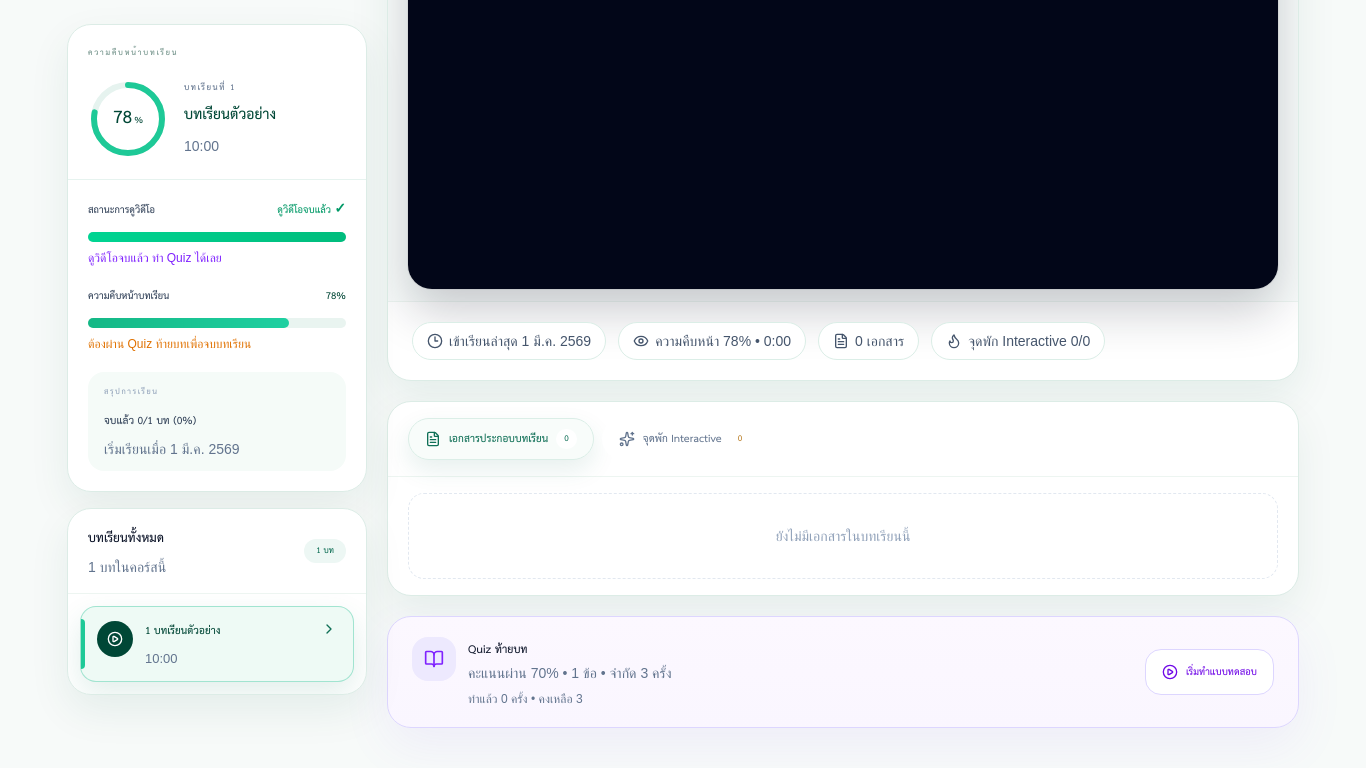
Test: CourseLearningArea quiz opening › reopens an already loaded quiz without forcing another progress sync
(page scrolled)
Check: the heading "Quiz ท้ายบท" is shown, box [468, 639, 528, 660]
Click the button "เริ่มทำแบบทดสอบ": (1210, 672) [1145, 649, 1274, 695]
(page scrolled)
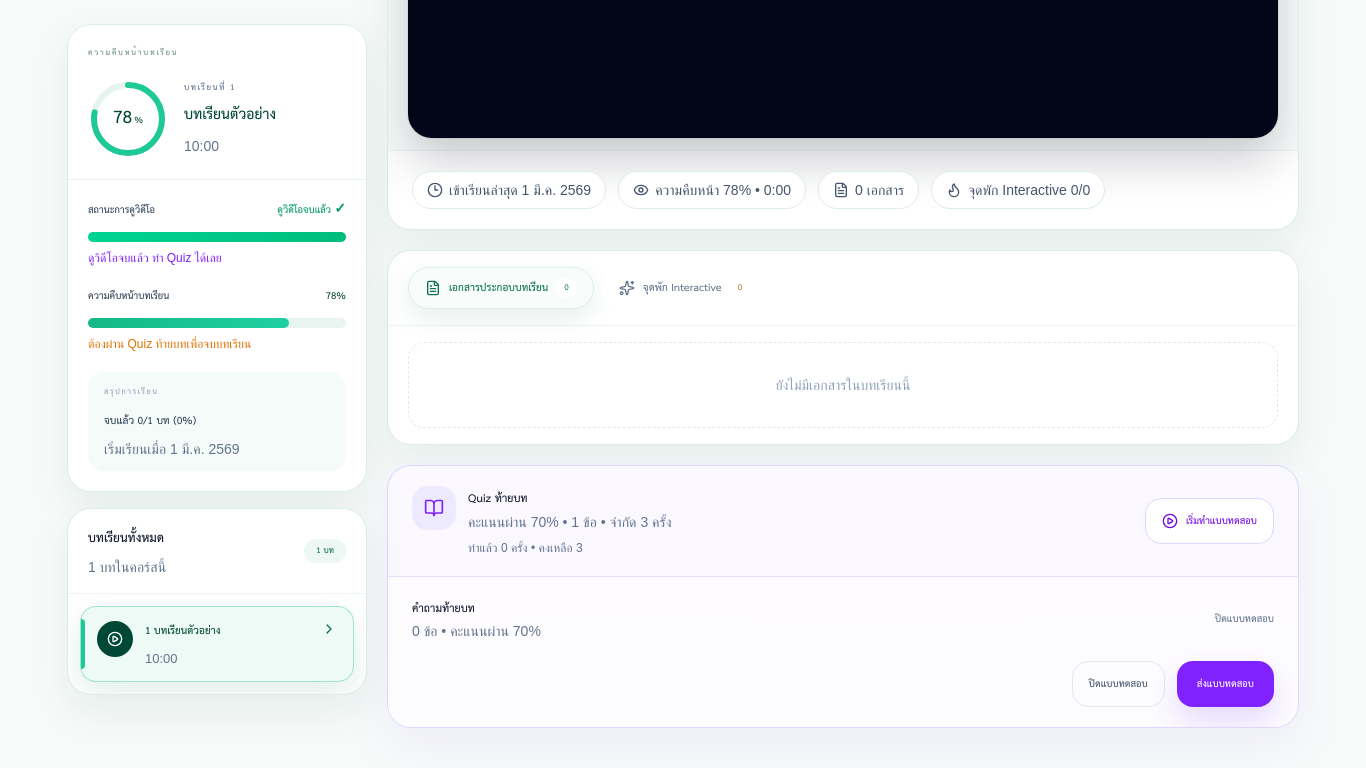
Click the button "ปิดแบบทดสอบ" in the row of "0 ข้อ • คะแนนผ่าน 70%": (1244, 618) [1215, 608, 1274, 628]
(page scrolled)
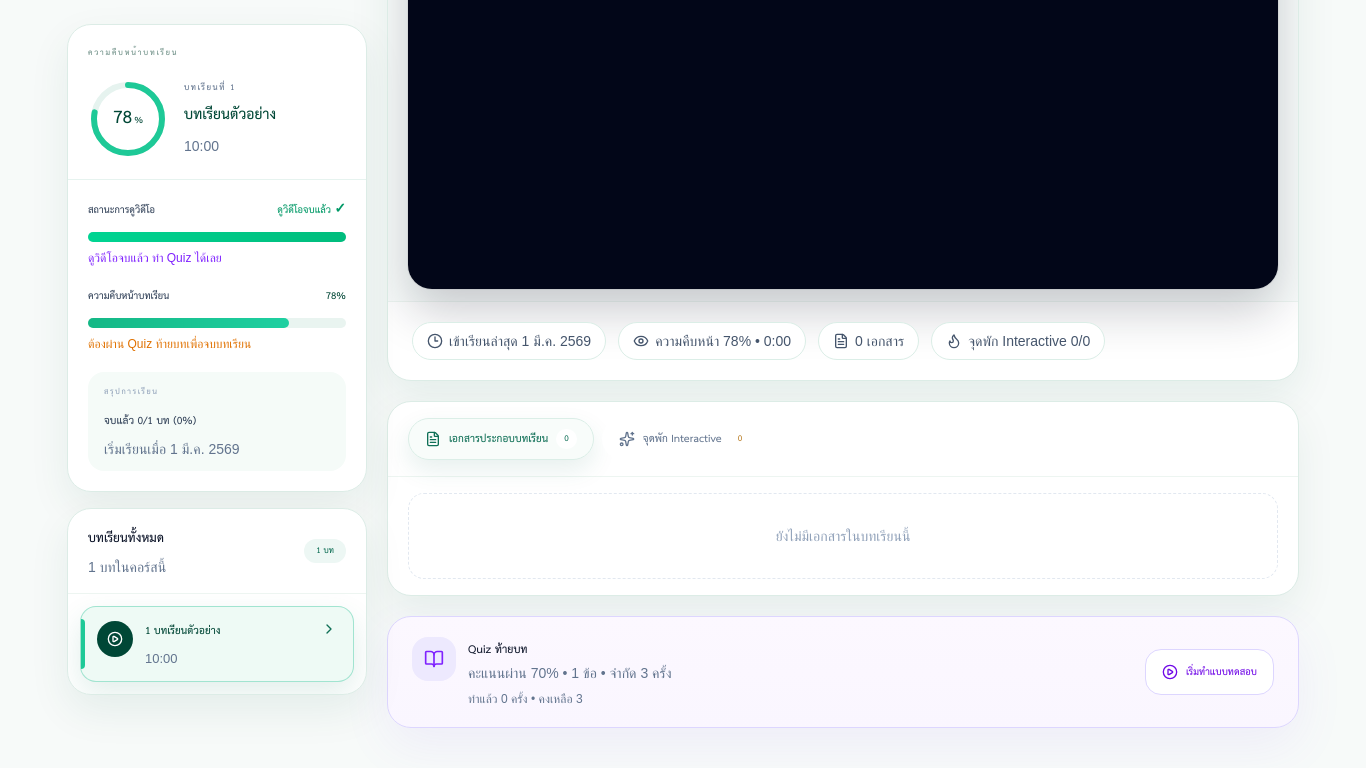
Check: the button "ส่งแบบทดสอบ" is gone
Click the button "เริ่มทำแบบทดสอบ": (1210, 672) [1145, 649, 1274, 695]
(page scrolled)
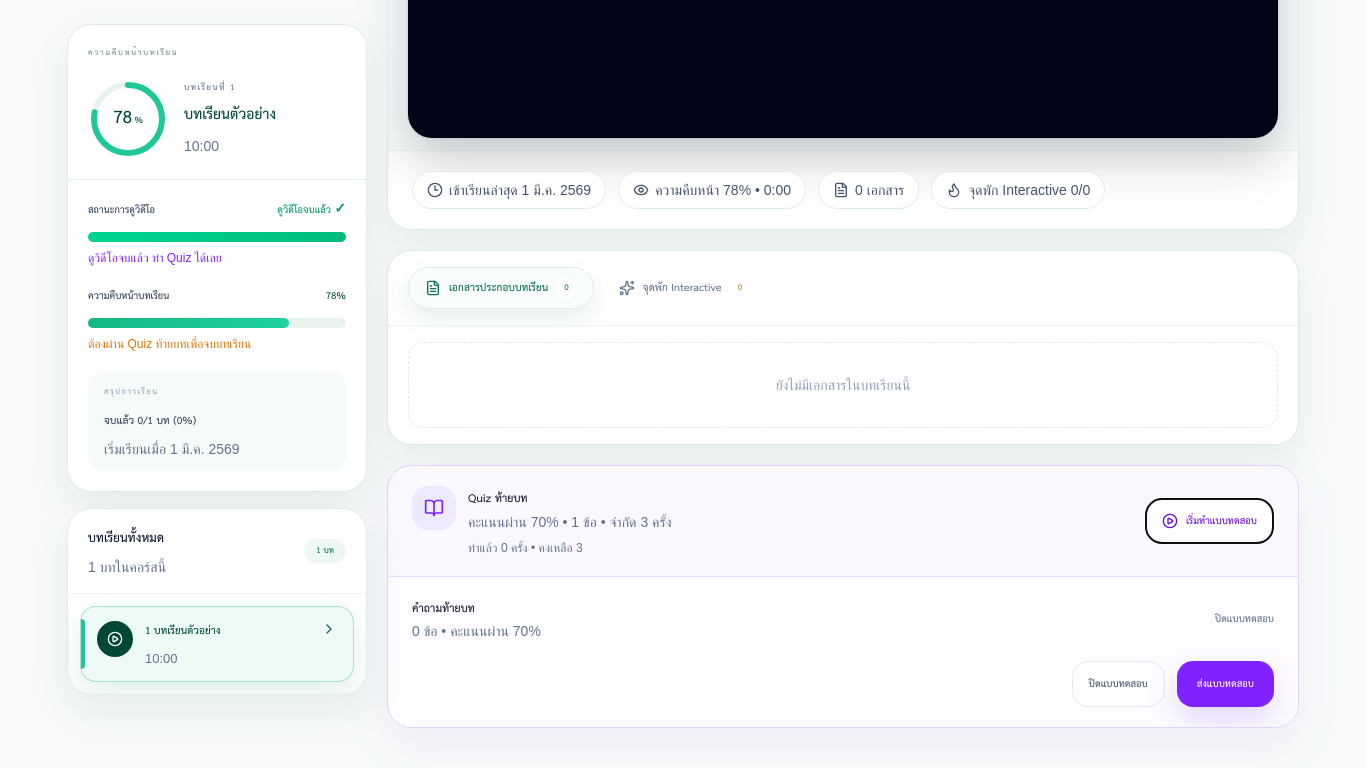
Check: the button "ส่งแบบทดสอบ" is shown, box [1177, 660, 1274, 706]
